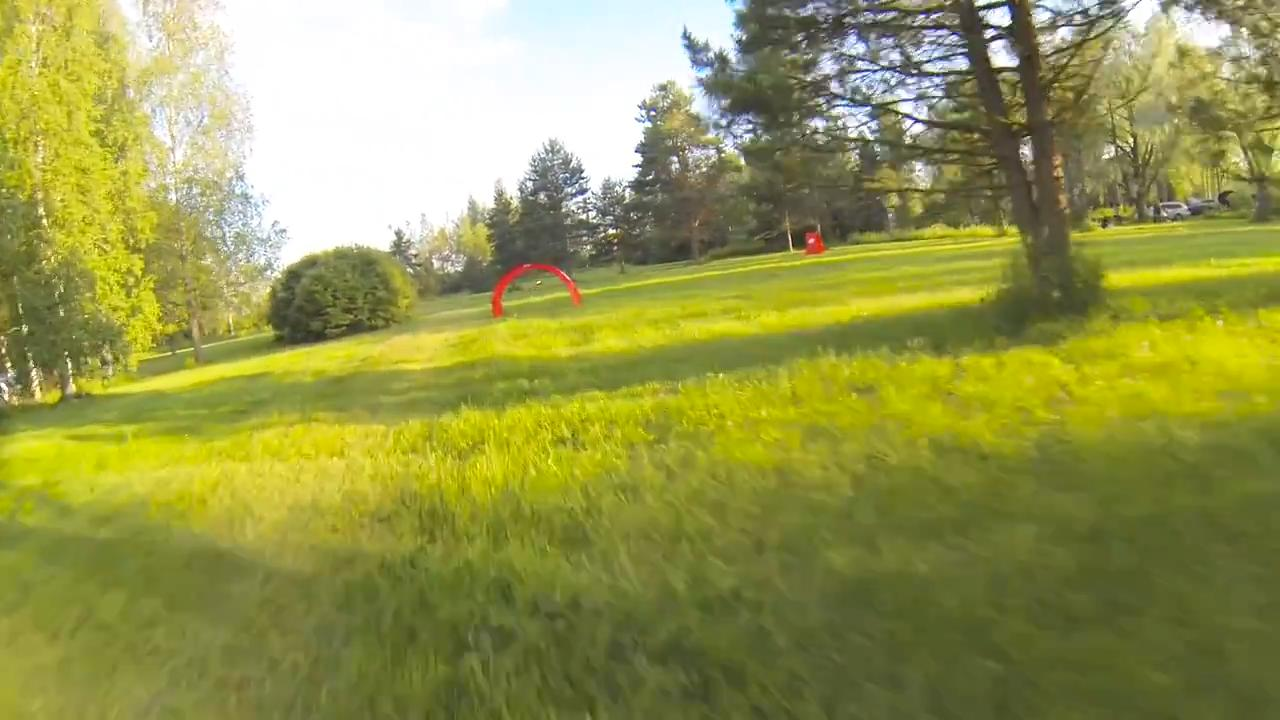gate: (491, 261, 586, 320)
